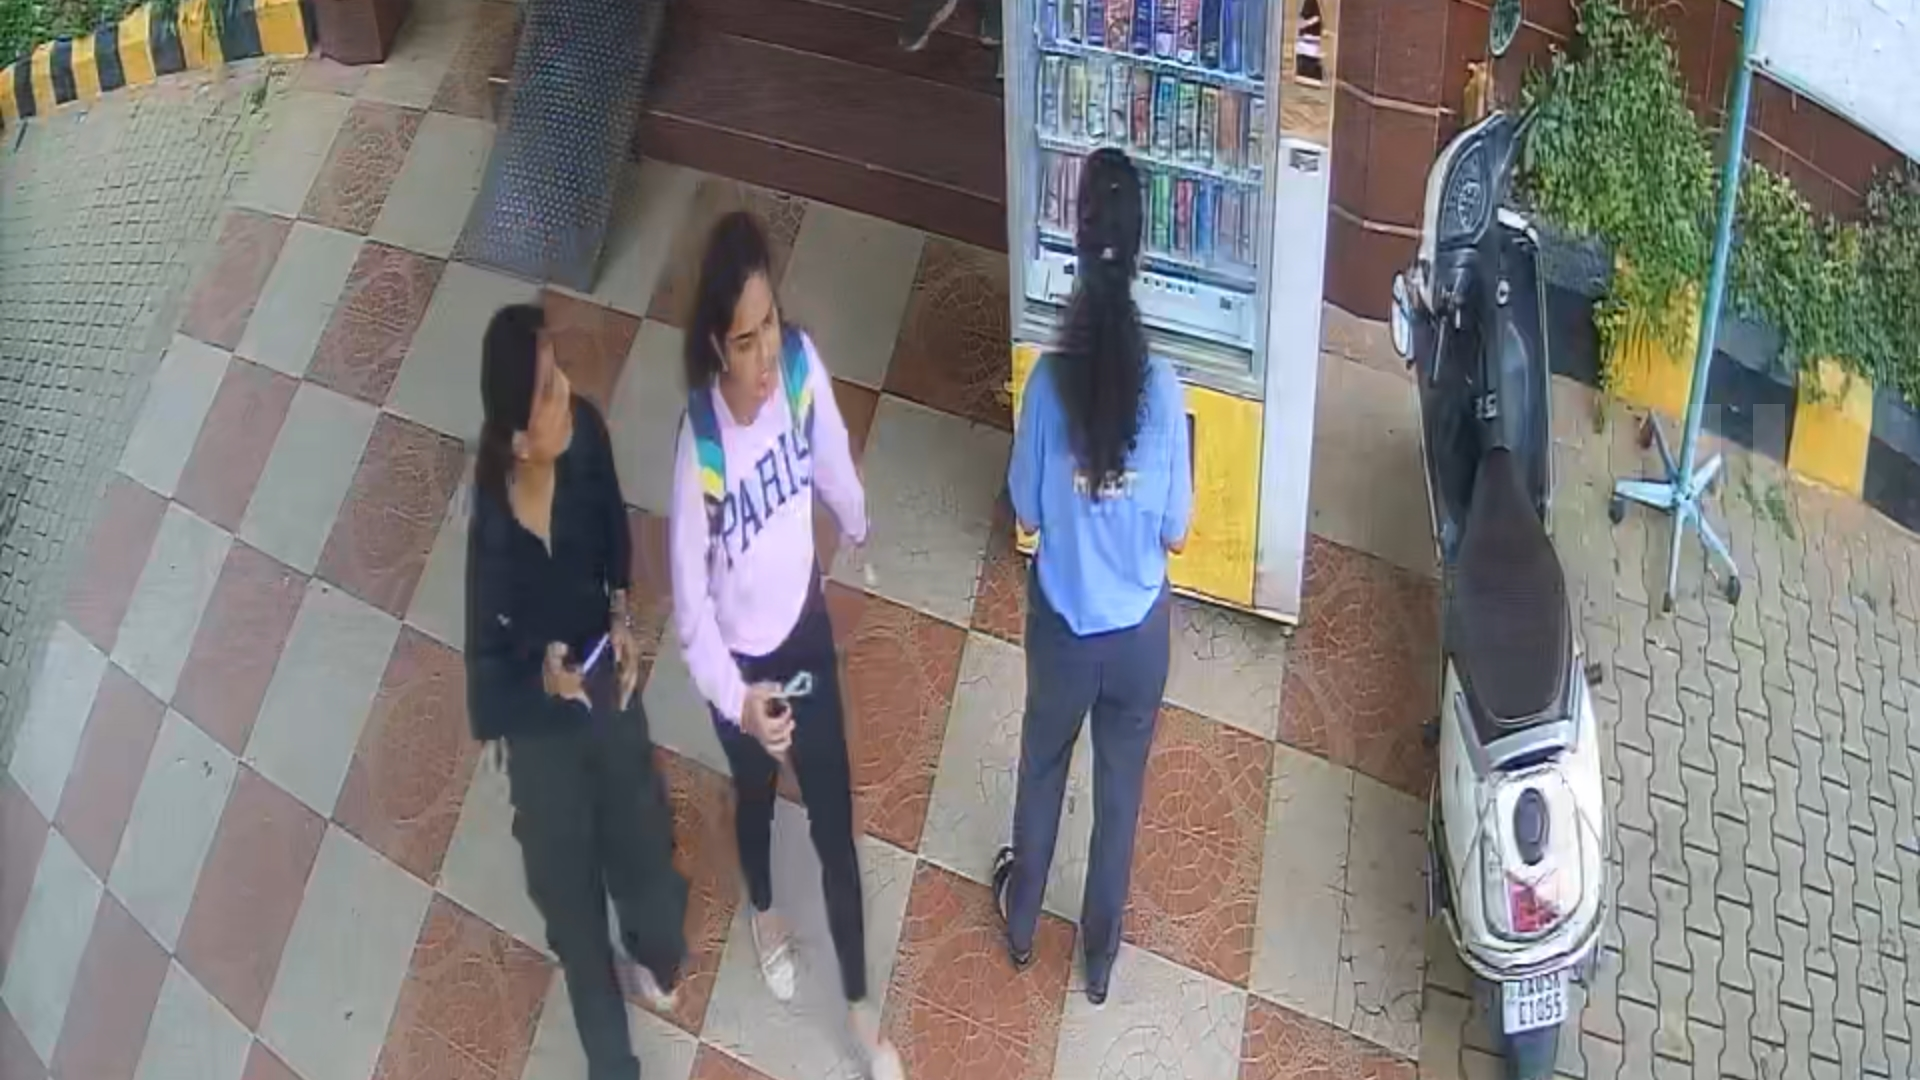intruder: (657, 207, 899, 1080), (452, 302, 698, 1080)
